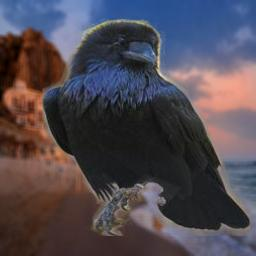Crow: (42, 19, 250, 236)
